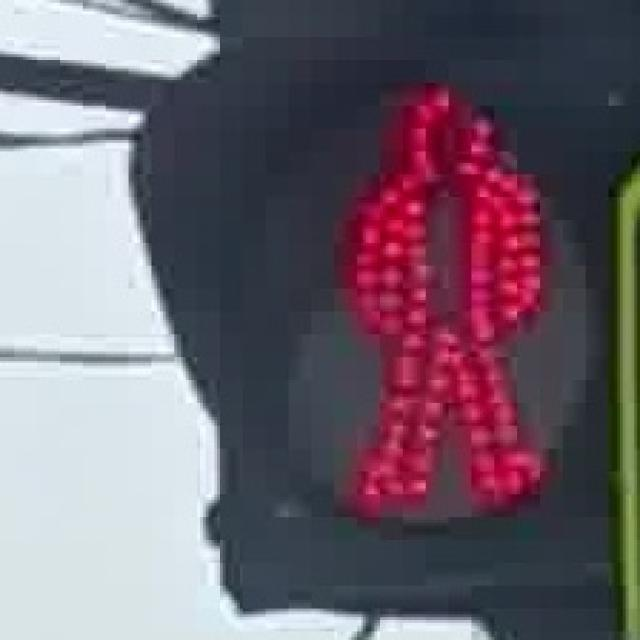red-crossing: (326, 67, 554, 530)
